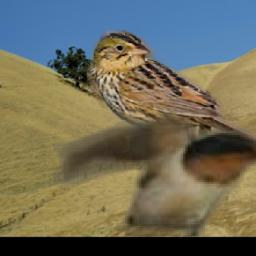Sparrow: (88, 30, 256, 163)
Swallow: (54, 113, 256, 236)
